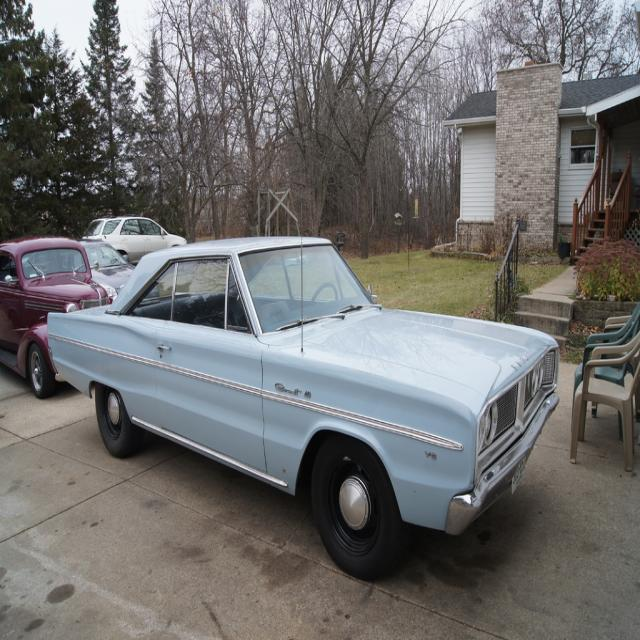car: (31, 231, 572, 574)
